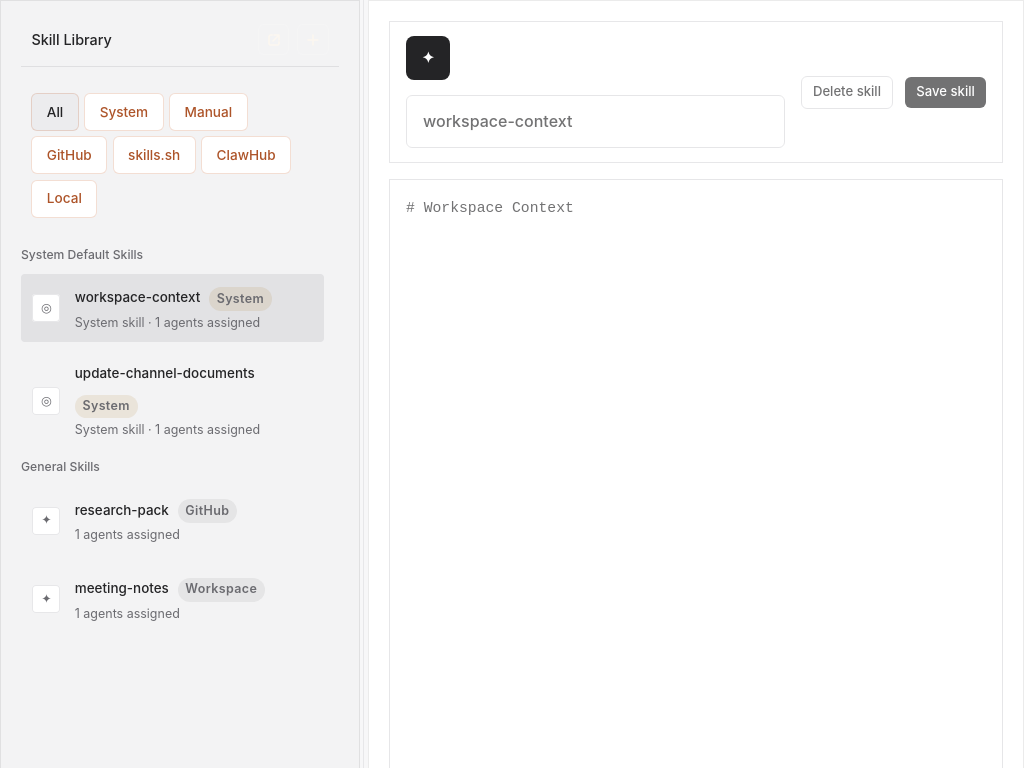
Test: SkillsPageClient › filters skills by source type
Expected: the button "✦ meeting-notes Workspace 1 agents assigned" is shown, 21,565 -> 324,633
Click the button "GitHub".
click(69, 155)  # box 31,136 -> 107,174
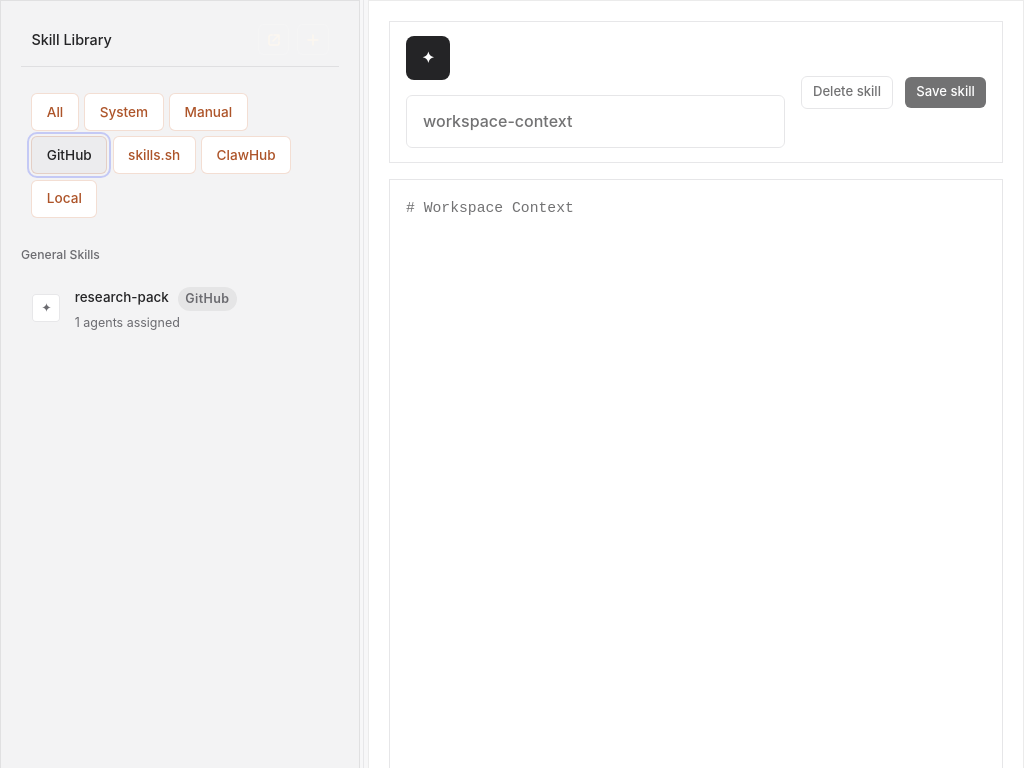
Expected: the button "✦ research-pack GitHub 1 agents assigned" is shown, 21,274 -> 324,342
Result: the button "meeting-notes" is gone
